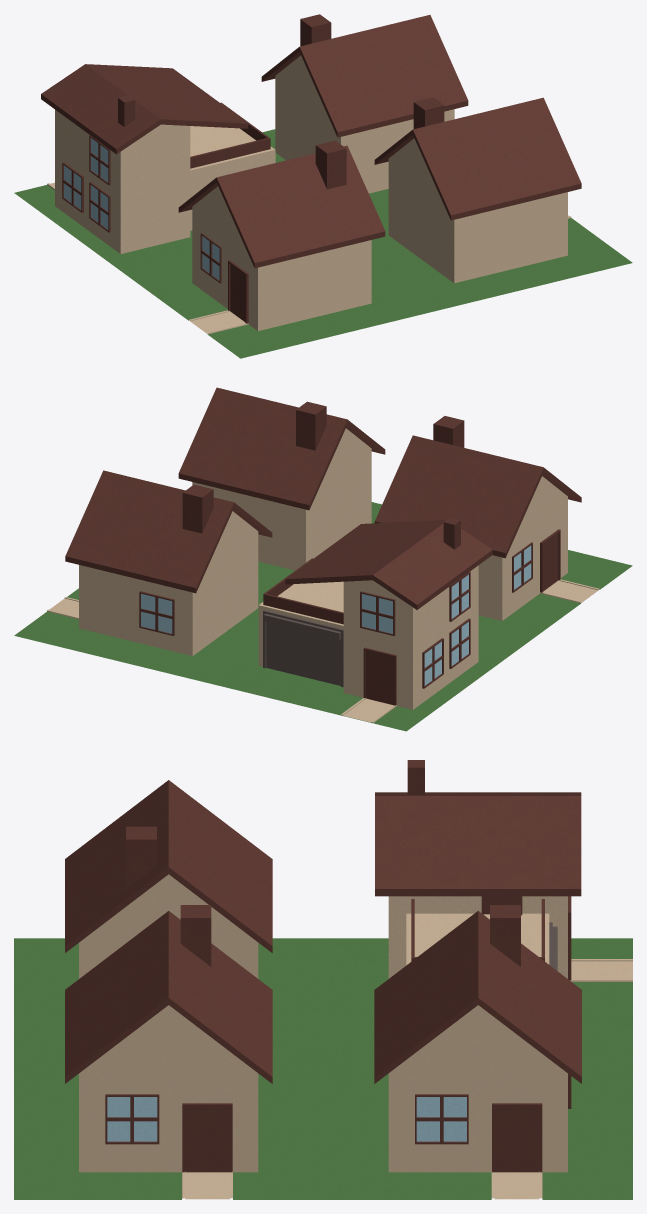
File: houses1.obj
3 renders of one model, top to bottom at view 1: azimuth 30°, elevation 25°; view 2: azimuth 150°, elevation 25°; view 3: azimuth 270°, elevation 25°, orthographic. The views are drawn at different scales.
Parts seen in each view (by area): view 1: House_Plane, House.002_Plane.002, House.001_Plane.001, House.003_Plane.003, Plane.002_Plane.001, Cube.008_Cube.046, Cube.009_Cube.047, Cube.007_Cube.045, Cube.011_Cube.049; view 2: House.003_Plane.003, House.001_Plane.001, House_Plane, House.002_Plane.002, Plane.002_Plane.001, Cube.010_Cube.051, Cube.012_Cube.050, Cube.008_Cube.046, Cube.009_Cube.047, Cube.011_Cube.049, Cube.007_Cube.045; view 3: House.002_Plane.002, House.003_Plane.003, House_Plane, House.001_Plane.001, Plane.002_Plane.001, Cube.006_Cube.044, Cube.004_Cube.043.
Boxes of the visible parts, x1,y1,x2,y2 form: House_Plane: [127, 140, 436, 358]; House.002_Plane.002: [371, 97, 632, 310]; House.001_Plane.001: [41, 64, 275, 253]; House.003_Plane.003: [261, 14, 468, 214]; Plane.002_Plane.001: [14, 185, 192, 275]; Cube.008_Cube.046: [62, 162, 83, 212]; Cube.009_Cube.047: [89, 182, 110, 232]; Cube.007_Cube.045: [200, 233, 221, 283]; Cube.011_Cube.049: [89, 135, 110, 185]; House.003_Plane.003: [14, 470, 272, 683]; House.001_Plane.001: [258, 517, 492, 723]; House_Plane: [374, 416, 632, 648]; House.002_Plane.002: [178, 387, 385, 587]; Plane.002_Plane.001: [210, 638, 519, 731]; Cube.010_Cube.051: [139, 591, 174, 635]; Cube.012_Cube.050: [360, 591, 395, 635]; Cube.008_Cube.046: [422, 638, 443, 688]; Cube.009_Cube.047: [449, 618, 470, 668]; Cube.011_Cube.049: [449, 571, 470, 621]; Cube.007_Cube.045: [512, 542, 532, 592]; House.002_Plane.002: [14, 905, 323, 1199]; House.003_Plane.003: [323, 905, 632, 1199]; House_Plane: [14, 780, 323, 1068]; House.001_Plane.001: [375, 760, 632, 981]; Plane.002_Plane.001: [323, 938, 632, 1068]; Cube.006_Cube.044: [105, 1094, 159, 1144]; Cube.004_Cube.043: [415, 1094, 468, 1144].
Bounding box in the file's own units: 40 × 14.25 × 40.
